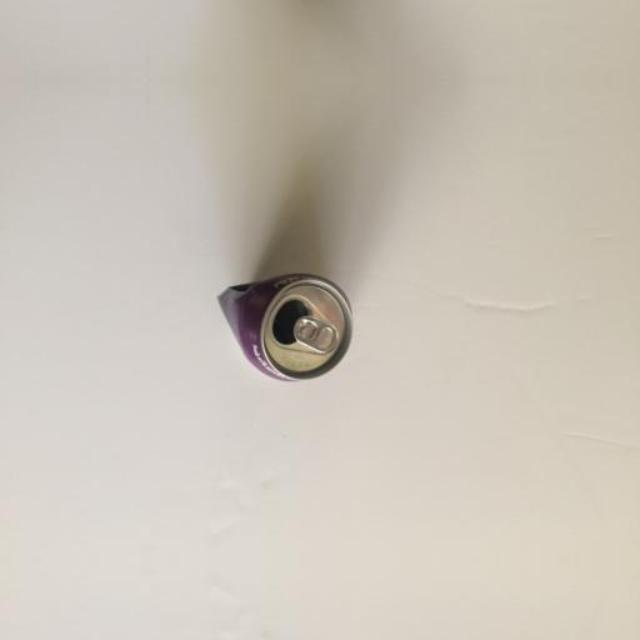Metal: (221, 262, 353, 413)
